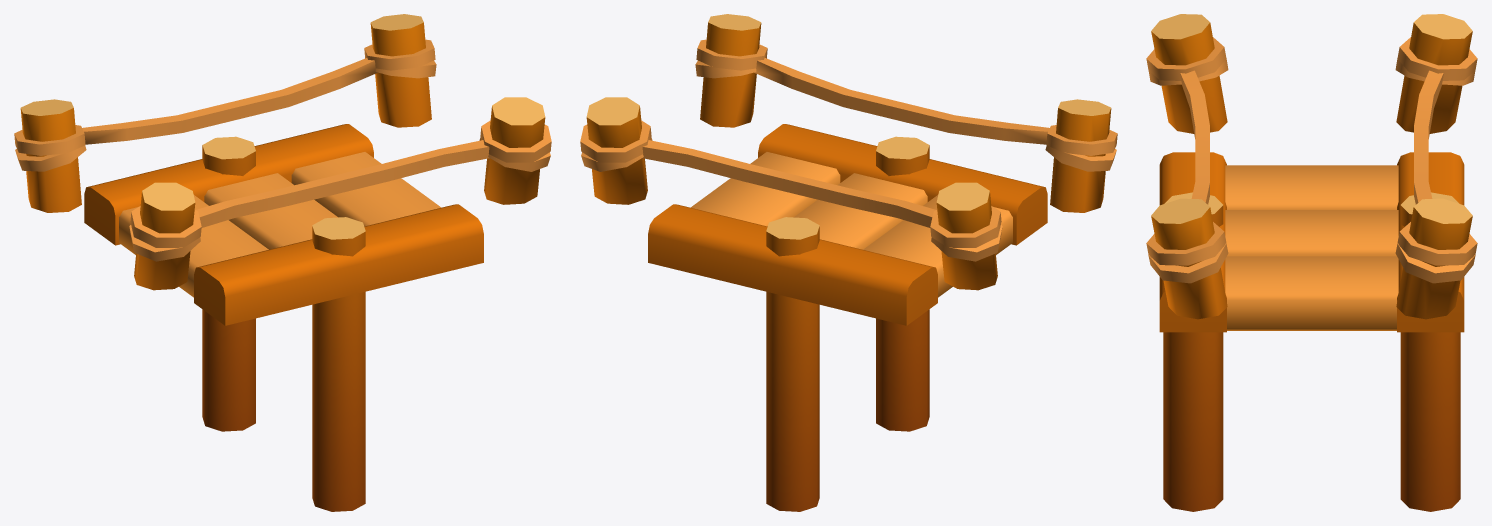
The model's file is Props_Wooden_Bridge_01.fbx.
3 renders of one model, left to right at view 1: azimuth 30°, elevation 25°; view 2: azimuth 150°, elevation 25°; view 3: azimuth 270°, elevation 25°, orthographic. The views are drawn at different scales.
Parts seen in each view (by area): view 1: Props_Wooden_Bridge_01; view 2: Props_Wooden_Bridge_01; view 3: Props_Wooden_Bridge_01.
Part boxes in pixels (left/top/right/bottom): Props_Wooden_Bridge_01: left=14, top=14, right=551, bottom=511; Props_Wooden_Bridge_01: left=580, top=14, right=1117, bottom=511; Props_Wooden_Bridge_01: left=1146, top=14, right=1477, bottom=511.
Bounding box in the file's own units: 330 × 270 × 211.
